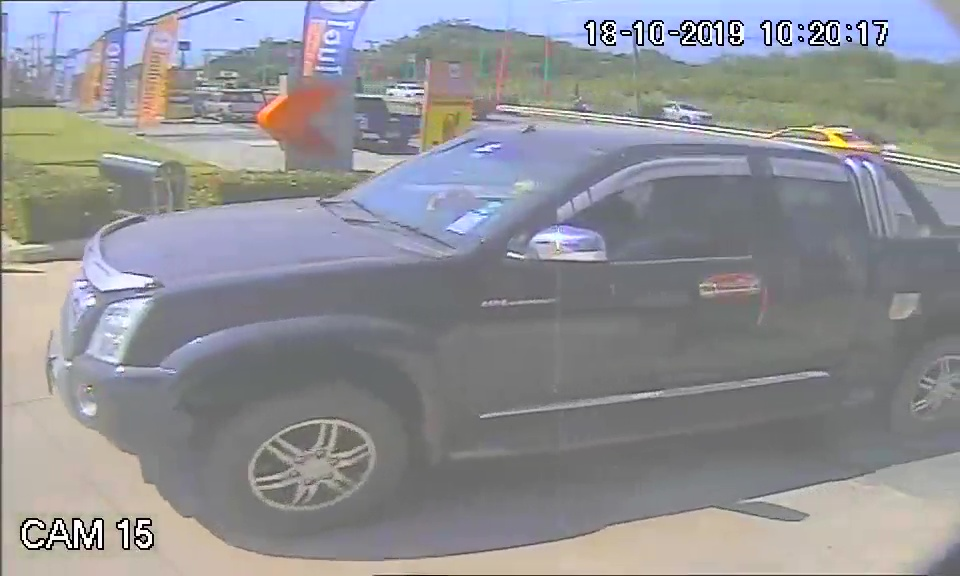pickup: (46, 123, 955, 524)
